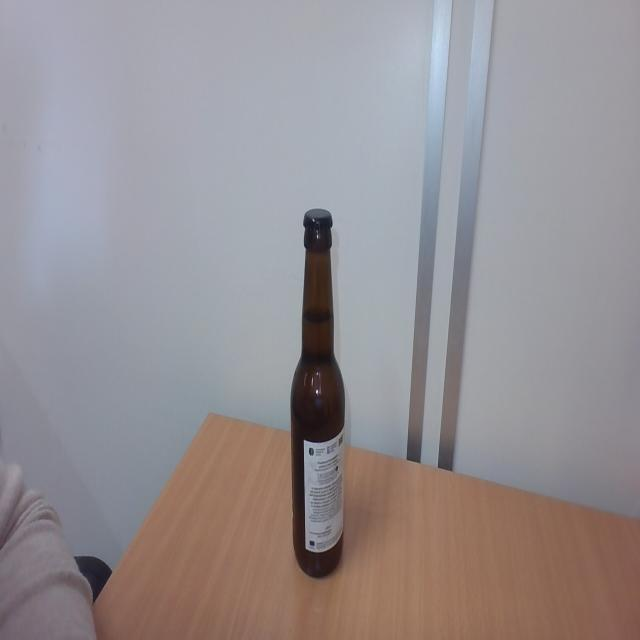Bottle: (293, 235, 346, 572)
Cap: (302, 206, 334, 235)
Label: (306, 434, 346, 552)
